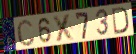3: (94, 8, 110, 38)
6: (37, 16, 52, 44)
7: (74, 12, 89, 41)
C: (16, 18, 36, 47)
D: (111, 6, 130, 36)
X: (52, 12, 77, 43)
